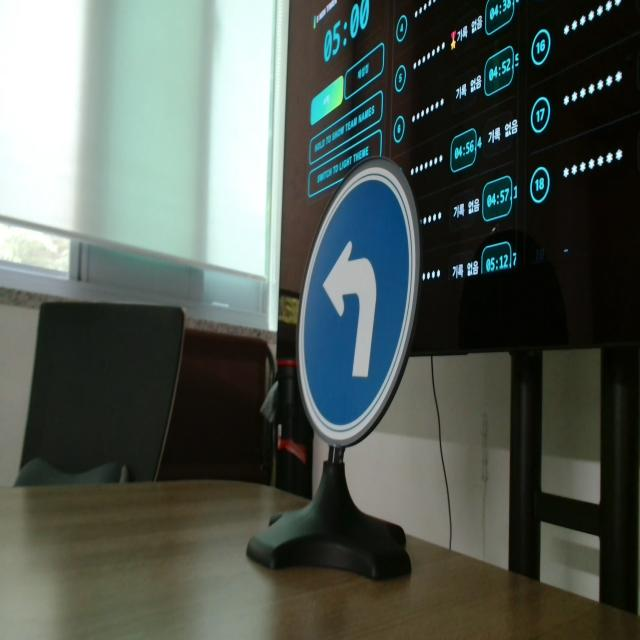left_direction: (292, 158, 415, 459)
